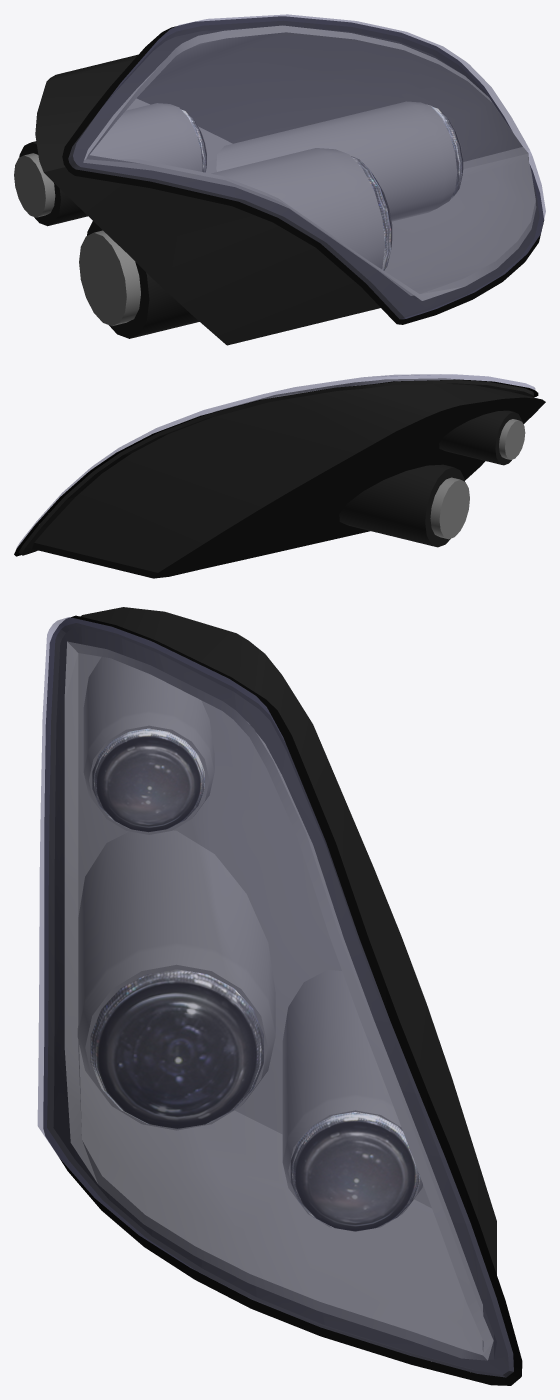
3 renders of one model, top to bottom at view 1: azimuth 30°, elevation 25°; view 2: azimuth 150°, elevation 25°; view 3: azimuth 270°, elevation 25°, orthographic. The views are drawn at different scales.
Visible parts, largest first — view 1: Z187_061B_R_Z187_061B_R_3_DTaSI, Z187_061B_R_1_N_Z187_061B_R, Z187_061B_R_Z187_061B_R_2_N, Z187_061B_R_Z187_061B_R_D, Z187_061B_R_Z187_061B_R_5_N, Z187_061B_R_Z187_061B_R_4_N; view 2: Z187_061B_R_Z187_061B_R_2_N, Z187_061B_R_1_N_Z187_061B_R, Z187_061B_R_Z187_061B_R_3_DTaSI, Z187_061B_R_Z187_061B_R_D; view 3: Z187_061B_R_Z187_061B_R_3_DTaSI, Z187_061B_R_1_N_Z187_061B_R, Z187_061B_R_Z187_061B_R_2_N, Z187_061B_R_Z187_061B_R_5_N, Z187_061B_R_Z187_061B_R_D, Z187_061B_R_Z187_061B_R_4_N, Z187_061B_R_Z187_061B_R_6_N.
Boxes of the visible parts, x1,y1,x2,y2 form: Z187_061B_R_Z187_061B_R_3_DTaSI: [68, 14, 545, 319]; Z187_061B_R_1_N_Z187_061B_R: [14, 25, 536, 326]; Z187_061B_R_Z187_061B_R_2_N: [19, 20, 539, 345]; Z187_061B_R_Z187_061B_R_D: [62, 16, 544, 324]; Z187_061B_R_Z187_061B_R_5_N: [351, 156, 392, 270]; Z187_061B_R_Z187_061B_R_4_N: [429, 105, 463, 198]; Z187_061B_R_Z187_061B_R_2_N: [18, 379, 545, 578]; Z187_061B_R_1_N_Z187_061B_R: [215, 378, 525, 539]; Z187_061B_R_Z187_061B_R_3_DTaSI: [16, 374, 535, 548]; Z187_061B_R_Z187_061B_R_D: [14, 379, 538, 556]; Z187_061B_R_Z187_061B_R_3_DTaSI: [37, 617, 513, 1377]; Z187_061B_R_1_N_Z187_061B_R: [64, 641, 493, 1360]; Z187_061B_R_Z187_061B_R_2_N: [47, 607, 513, 1377]; Z187_061B_R_Z187_061B_R_5_N: [90, 969, 263, 1128]; Z187_061B_R_Z187_061B_R_D: [43, 615, 522, 1385]; Z187_061B_R_Z187_061B_R_4_N: [290, 1112, 420, 1231]; Z187_061B_R_Z187_061B_R_6_N: [92, 728, 204, 831].
Bounding box in the file's own units: 62.7 × 29.21 × 31.35.
